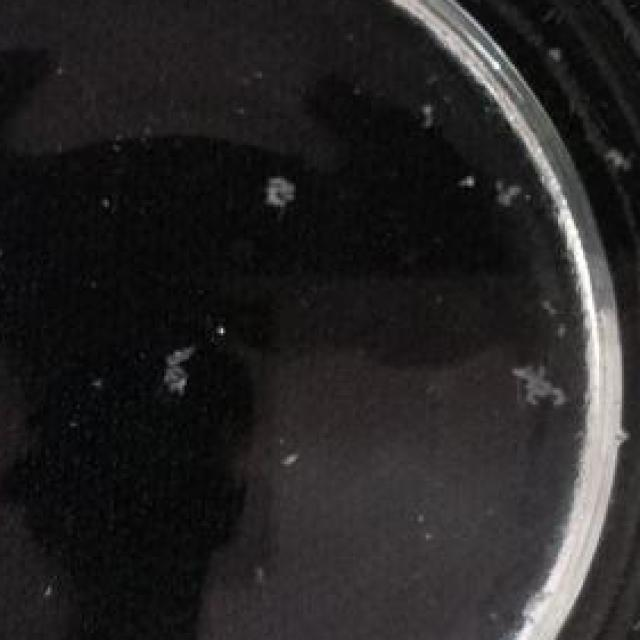Microplastic: (150, 333, 208, 412), (485, 167, 542, 221), (519, 352, 572, 409), (594, 131, 636, 195), (248, 174, 310, 212), (537, 38, 574, 71)
